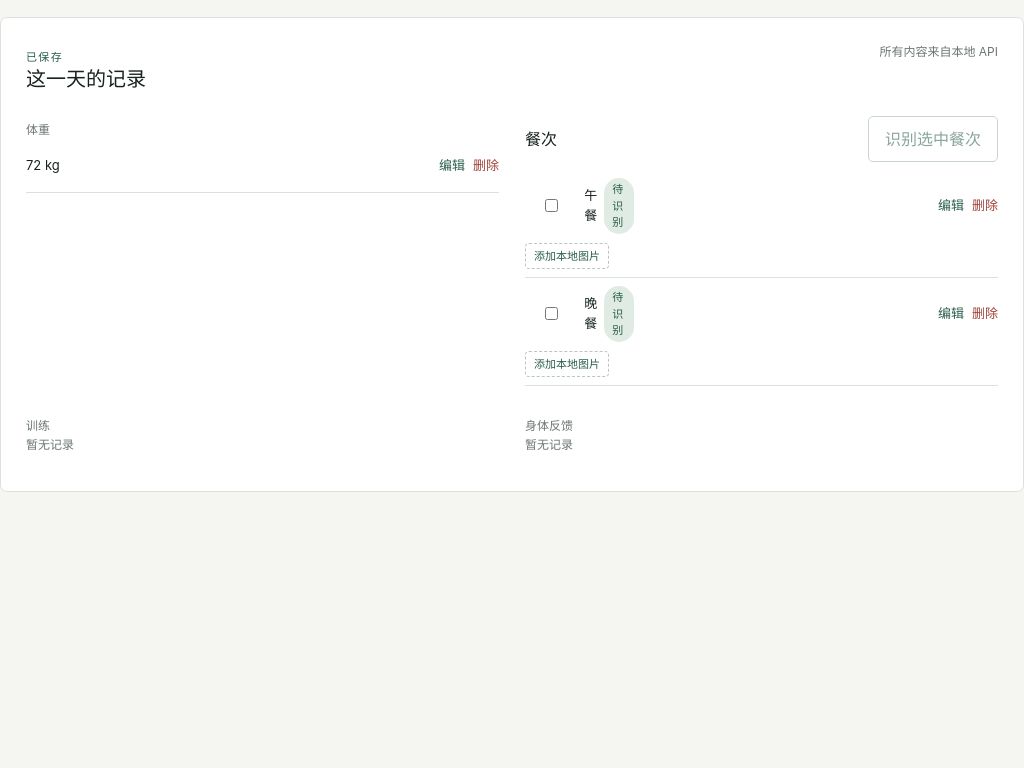
SavedRecords › recognizes selected meals in one batch request and reports an individual failure
This screenshot has width=1024, height=768.
Click the checkbox named "选择午餐进行识别" at (552, 206), box left=529, top=199, right=574, bottom=212
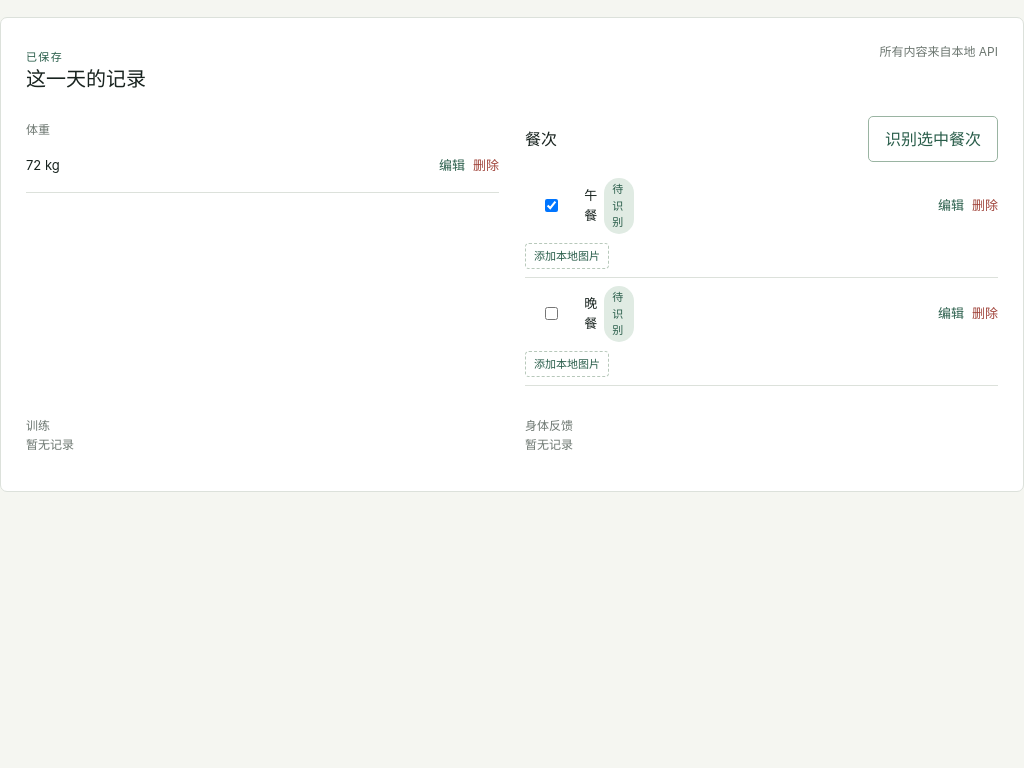
Click the checkbox named "选择晚餐进行识别" at (552, 314), box left=529, top=307, right=574, bottom=320
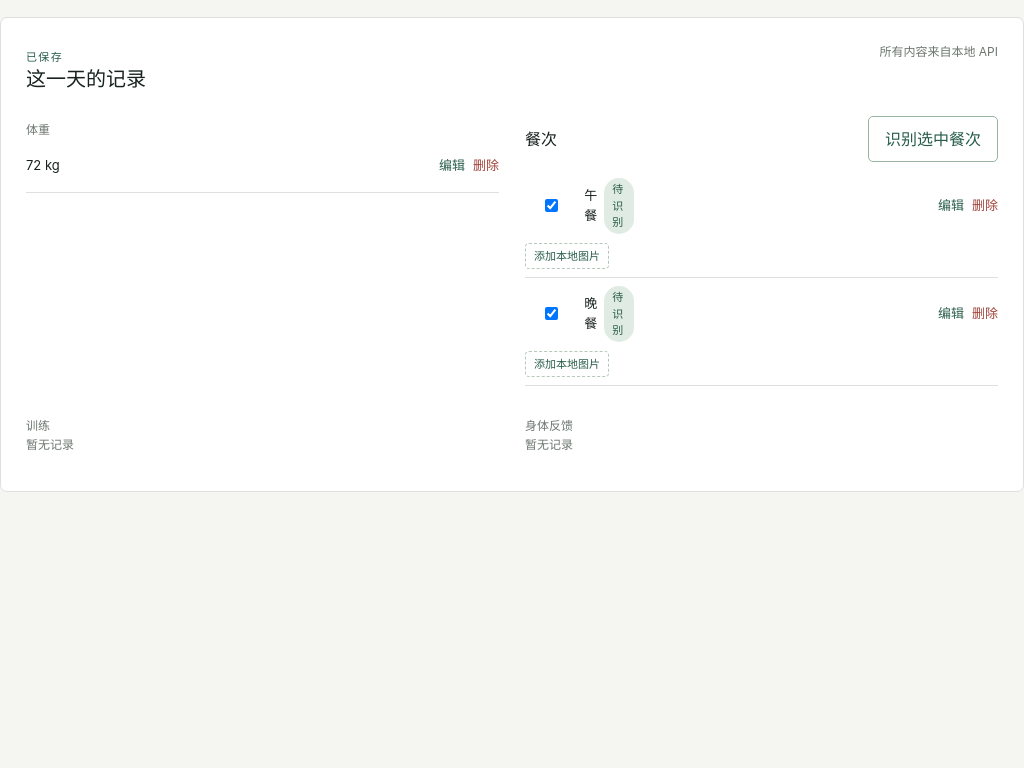
Click the button "识别选中餐次" at (933, 139), box left=868, top=116, right=998, bottom=162
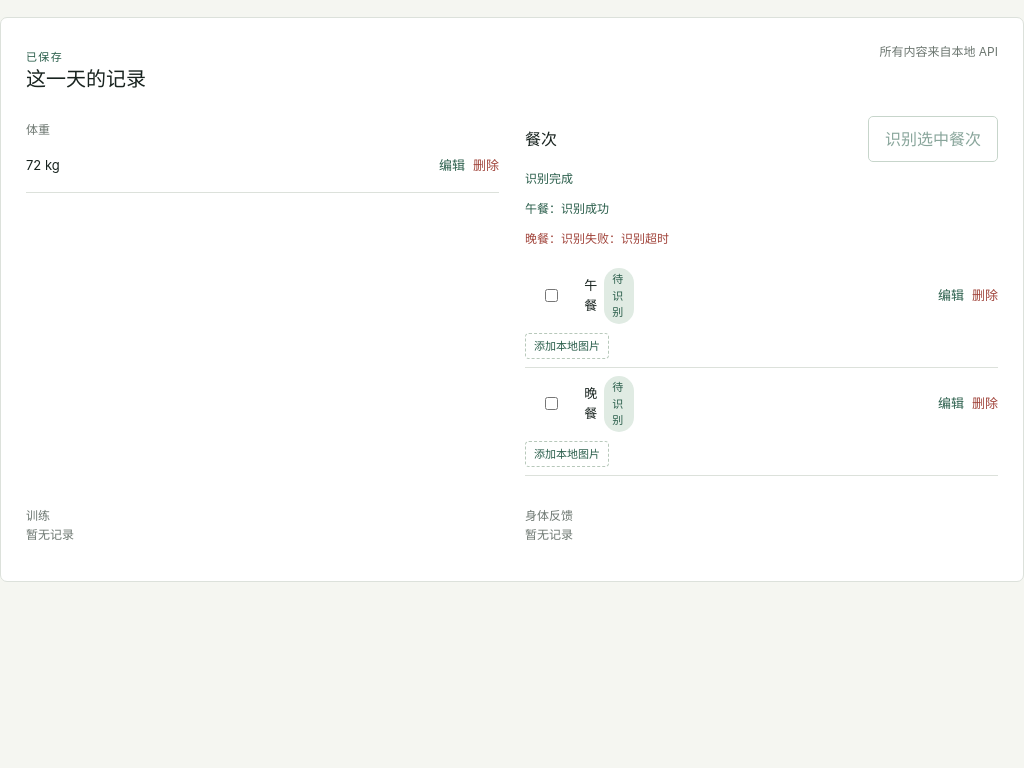
Now the text "晚餐：识别失败：识别超时" is shown, box left=525, top=231, right=669, bottom=246
Now the text "午餐：识别成功" is shown, box left=525, top=201, right=609, bottom=216
